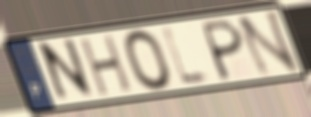H: (79, 32, 136, 100)
L: (157, 21, 219, 91)
N: (233, 7, 303, 81), (37, 35, 97, 107)
O: (121, 28, 175, 94)
P: (201, 16, 246, 83)
